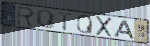A: (113, 19, 136, 40)
Q: (35, 9, 55, 31), (76, 14, 94, 35)
R: (16, 5, 36, 28)
T: (58, 12, 73, 31)
X: (95, 15, 114, 38)
